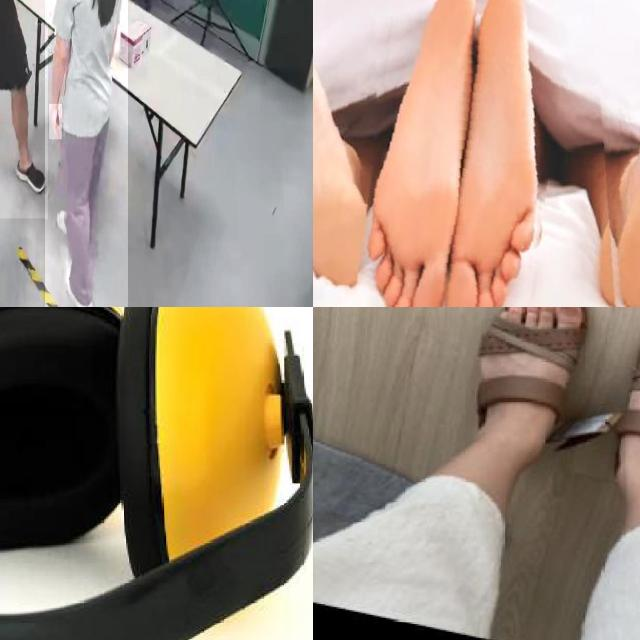Barefoots: (366, 0, 479, 307), (443, 0, 546, 307), (313, 39, 375, 307)
Ear-protection: (0, 307, 311, 640)
Sandals: (475, 307, 605, 472), (611, 319, 640, 530)
hand_noglove: (49, 104, 63, 140)
person: (45, 0, 128, 307)
shoes: (12, 153, 47, 199)
